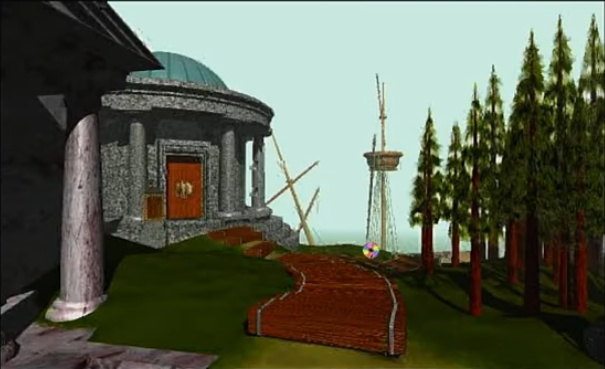Waiting: (360, 238, 382, 260)
